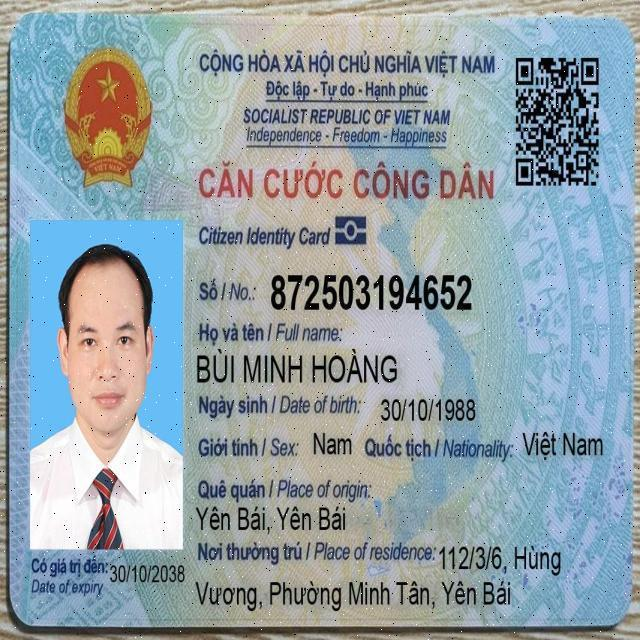current_place: (191, 574, 516, 614), (436, 537, 566, 580)
dob: (377, 389, 481, 429)
expire_date: (108, 559, 188, 591)
gender: (309, 426, 356, 464)
id: (267, 265, 477, 318)
name: (193, 342, 401, 390)
nationality: (517, 425, 607, 467)
origin_place: (191, 496, 351, 539)
